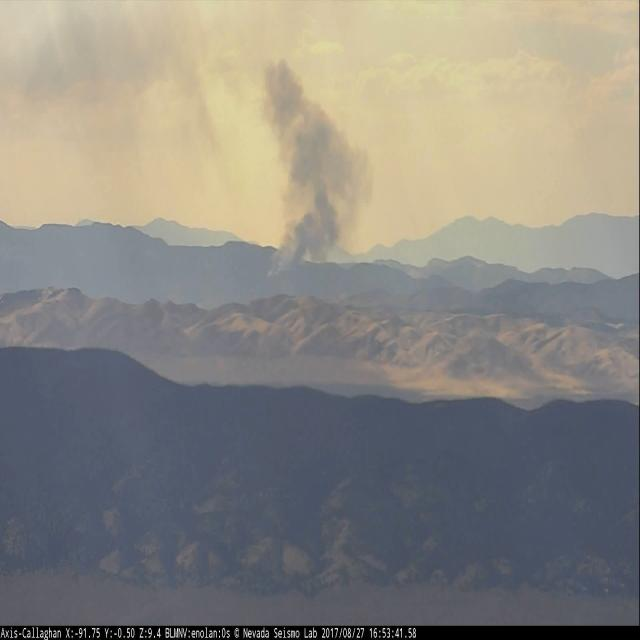smoke: (267, 60, 360, 278)
